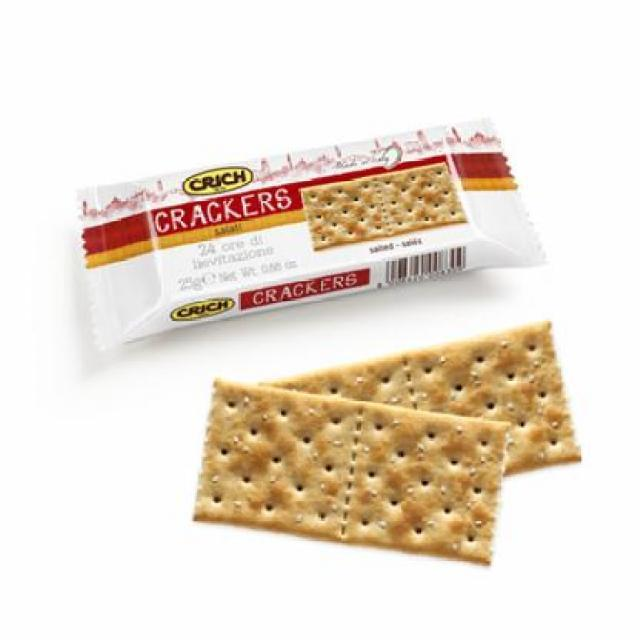Cracker: (74, 134, 563, 342)
Cracker packaged: (198, 379, 498, 570), (237, 326, 589, 488)
